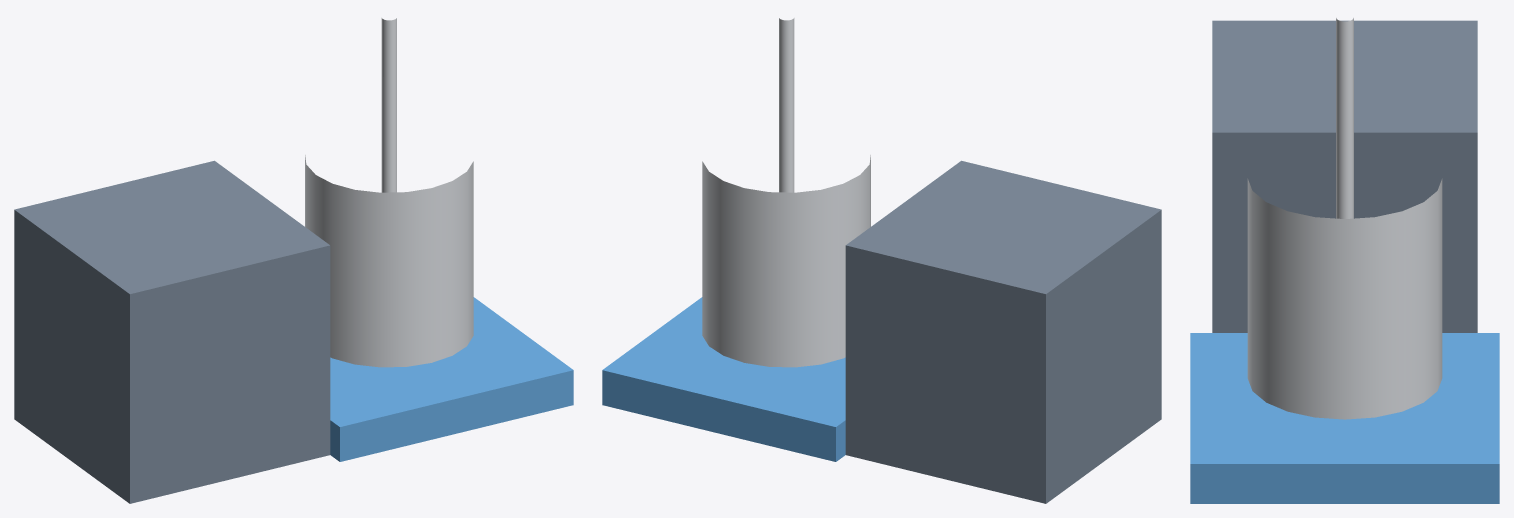
Rendered from concrete_mix_design_is10262.glb.
The picture shows the model from 3 angles, left to right: view 1: azimuth 30°, elevation 25°; view 2: azimuth 150°, elevation 25°; view 3: azimuth 270°, elevation 25°; orthographic projection. The views are drawn at different scales.
Visible parts, largest first — view 1: SteelCubeMold150mm, SlumpConeWithBasePlate, ConcreteBatchingPanScale, TampingRodSteel; view 2: SteelCubeMold150mm, SlumpConeWithBasePlate, ConcreteBatchingPanScale, TampingRodSteel; view 3: SteelCubeMold150mm, SlumpConeWithBasePlate, ConcreteBatchingPanScale, TampingRodSteel.
Part boxes in pixels (x1=…): SteelCubeMold150mm: x1=14, y1=160, x2=330, y2=503; SlumpConeWithBasePlate: x1=305, y1=155, x2=473, y2=367; ConcreteBatchingPanScale: x1=330, y1=297, x2=573, y2=461; TampingRodSteel: x1=381, y1=18, x2=396, y2=192; SteelCubeMold150mm: x1=845, y1=160, x2=1161, y2=503; SlumpConeWithBasePlate: x1=702, y1=155, x2=870, y2=367; ConcreteBatchingPanScale: x1=602, y1=297, x2=845, y2=461; TampingRodSteel: x1=779, y1=18, x2=794, y2=192; SteelCubeMold150mm: x1=1212, y1=20, x2=1477, y2=332; SlumpConeWithBasePlate: x1=1247, y1=178, x2=1442, y2=419; ConcreteBatchingPanScale: x1=1190, y1=333, x2=1499, y2=503; TampingRodSteel: x1=1336, y1=18, x2=1353, y2=218.
Size of the model in its own units: 1.3 by 1.05 by 0.7.
